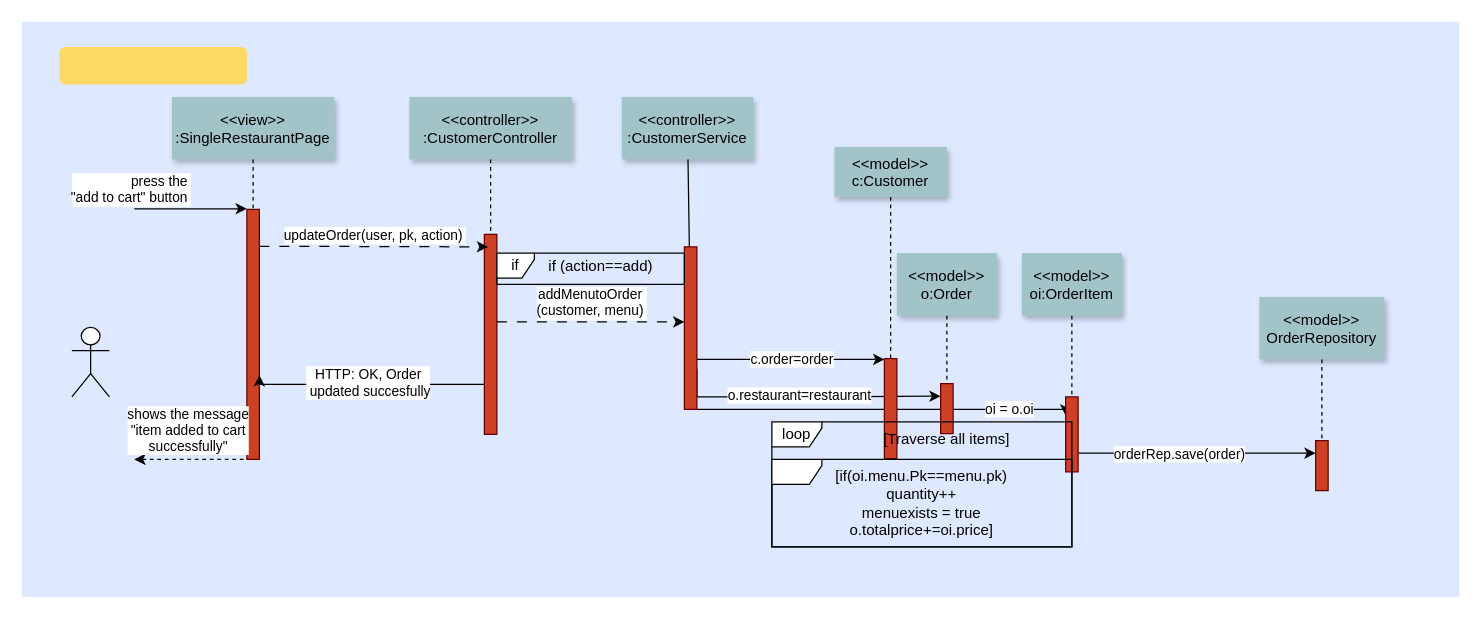
This 1480x618 diagram has some shape labels left out. Here are the shapes that lost their labels. From the top down, the centre of each, then its label:
At point (152, 65): "add item to cart".
At point (90, 361): "Customer".
At point (921, 502): "cond".
